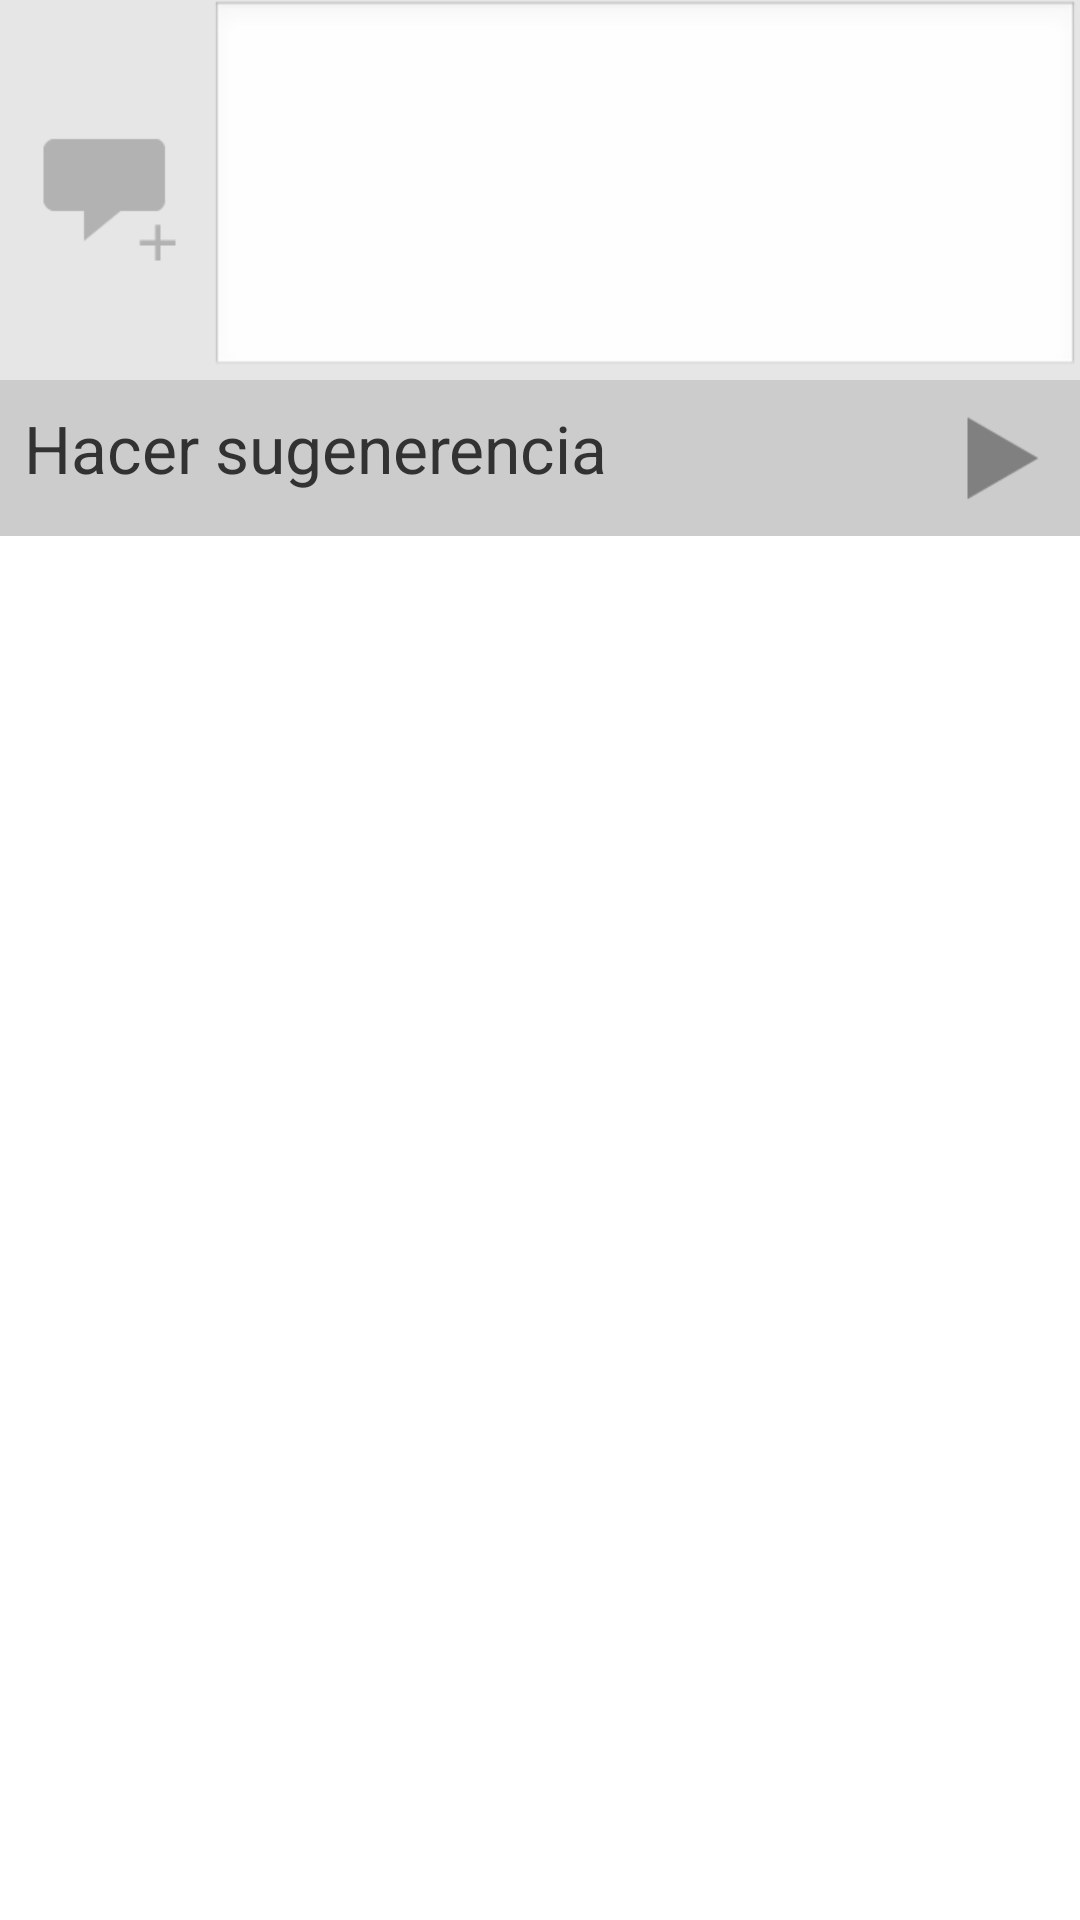

Locate icon controls on the screen. Image size 1080w x 1920h, boxes as [x1=x1, y1=y1, x2=x2, y2=y2].
message: [x1=43, y1=139, x2=176, y2=261]
next: [x1=967, y1=417, x2=1038, y2=499]
